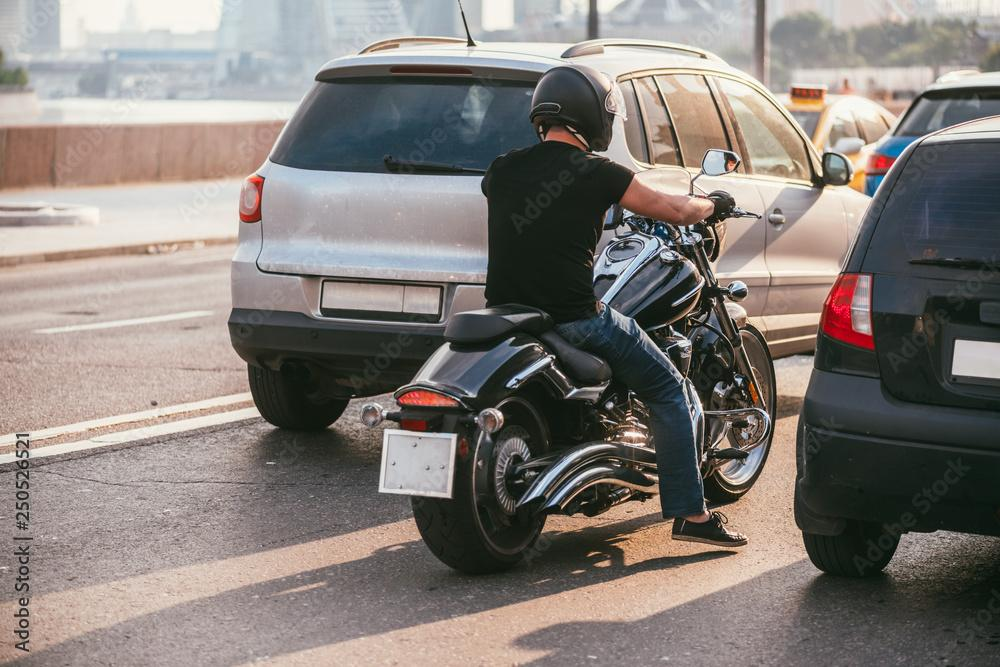helmet: (529, 63, 629, 153)
